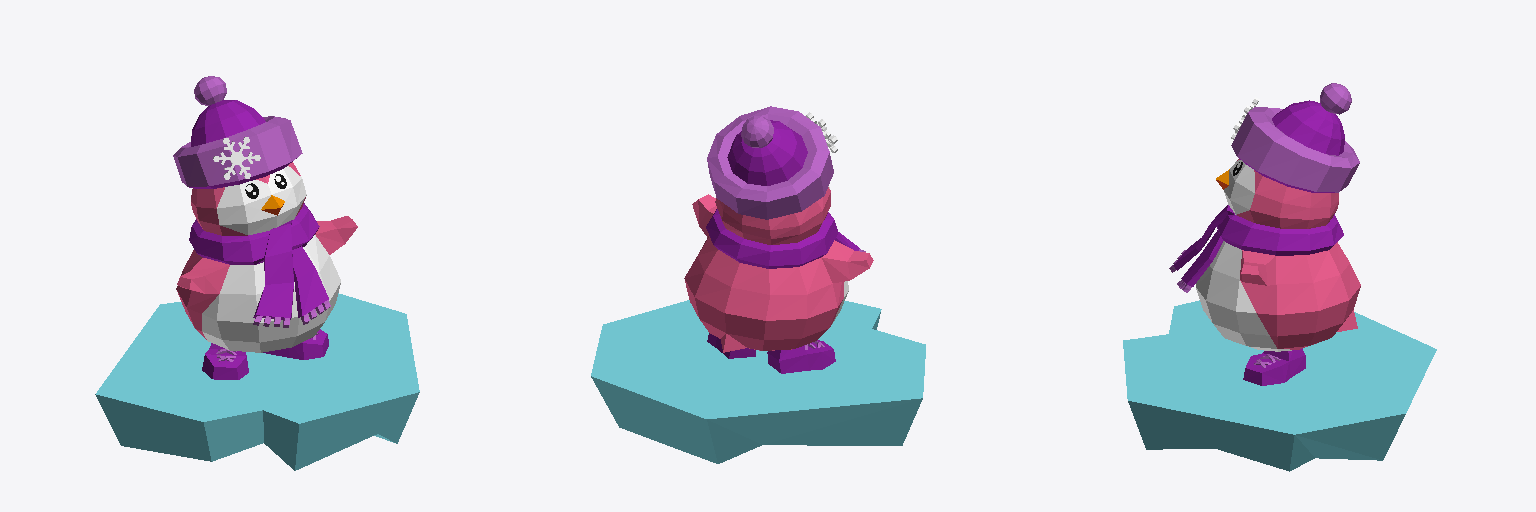
3 renders of one model, left to right at view 1: azimuth 30°, elevation 25°; view 2: azimuth 150°, elevation 25°; view 3: azimuth 270°, elevation 25°, orthographic.
Visible parts, largest first — view 1: group[number redacted], group[number redacted], group[number redacted], group[number redacted], group[number redacted]; view 2: group[number redacted], group[number redacted], group[number redacted]; view 3: group[number redacted], group[number redacted], group[number redacted].
Part boxes in pixels (bbox=[...]): group[number redacted]: bbox=[95, 293, 419, 470]; group[number redacted]: bbox=[173, 76, 357, 352]; group[number redacted]: bbox=[202, 343, 248, 379]; group[number redacted]: bbox=[263, 329, 328, 359]; group[number redacted]: bbox=[213, 137, 260, 179]; group[number redacted]: bbox=[591, 300, 925, 463]; group[number redacted]: bbox=[684, 106, 873, 352]; group[number redacted]: bbox=[767, 340, 835, 373]; group[number redacted]: bbox=[1123, 300, 1436, 471]; group[number redacted]: bbox=[1169, 83, 1360, 351]; group[number redacted]: bbox=[1243, 348, 1305, 385].
Size of the model in its own units: 1.75 by 1.72 by 1.51.